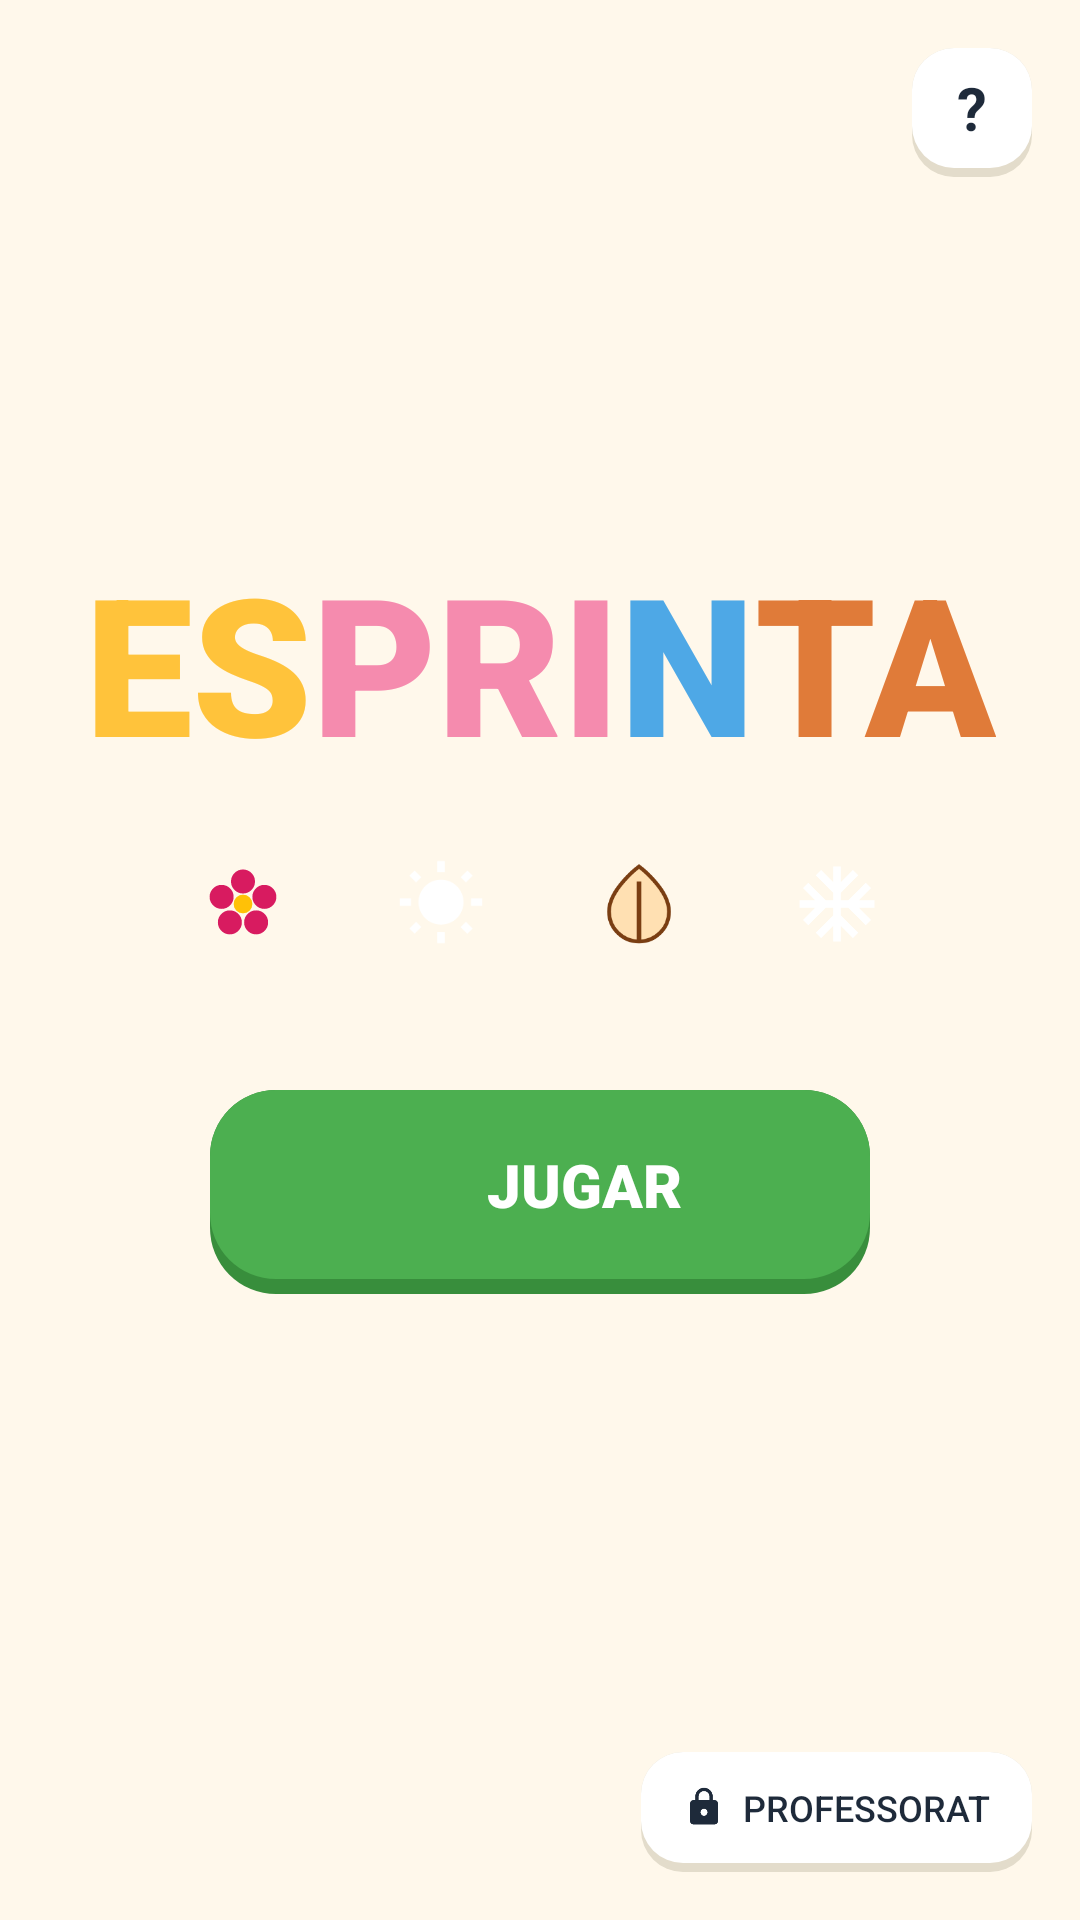

Icons on this 1080*1920 Android screen, each with the point to tap as [x,y]:
lock: [704,1806]
Primavera: [243,902]
Tardor: [639,904]
